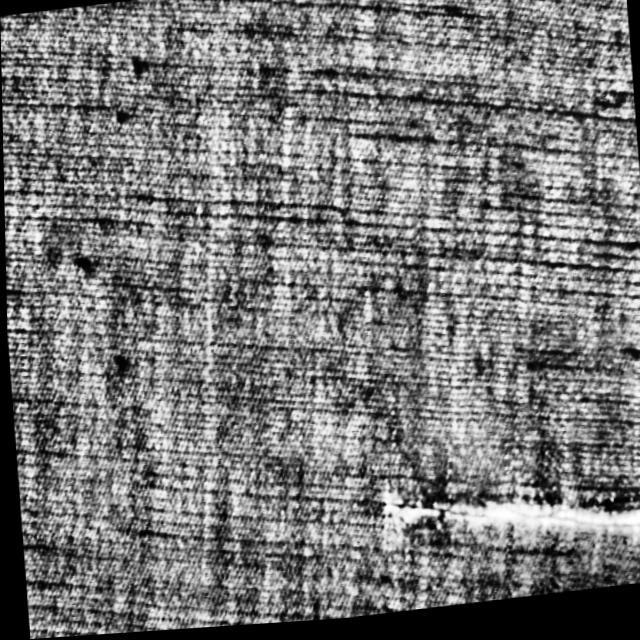Hole: (373, 454, 640, 596)
